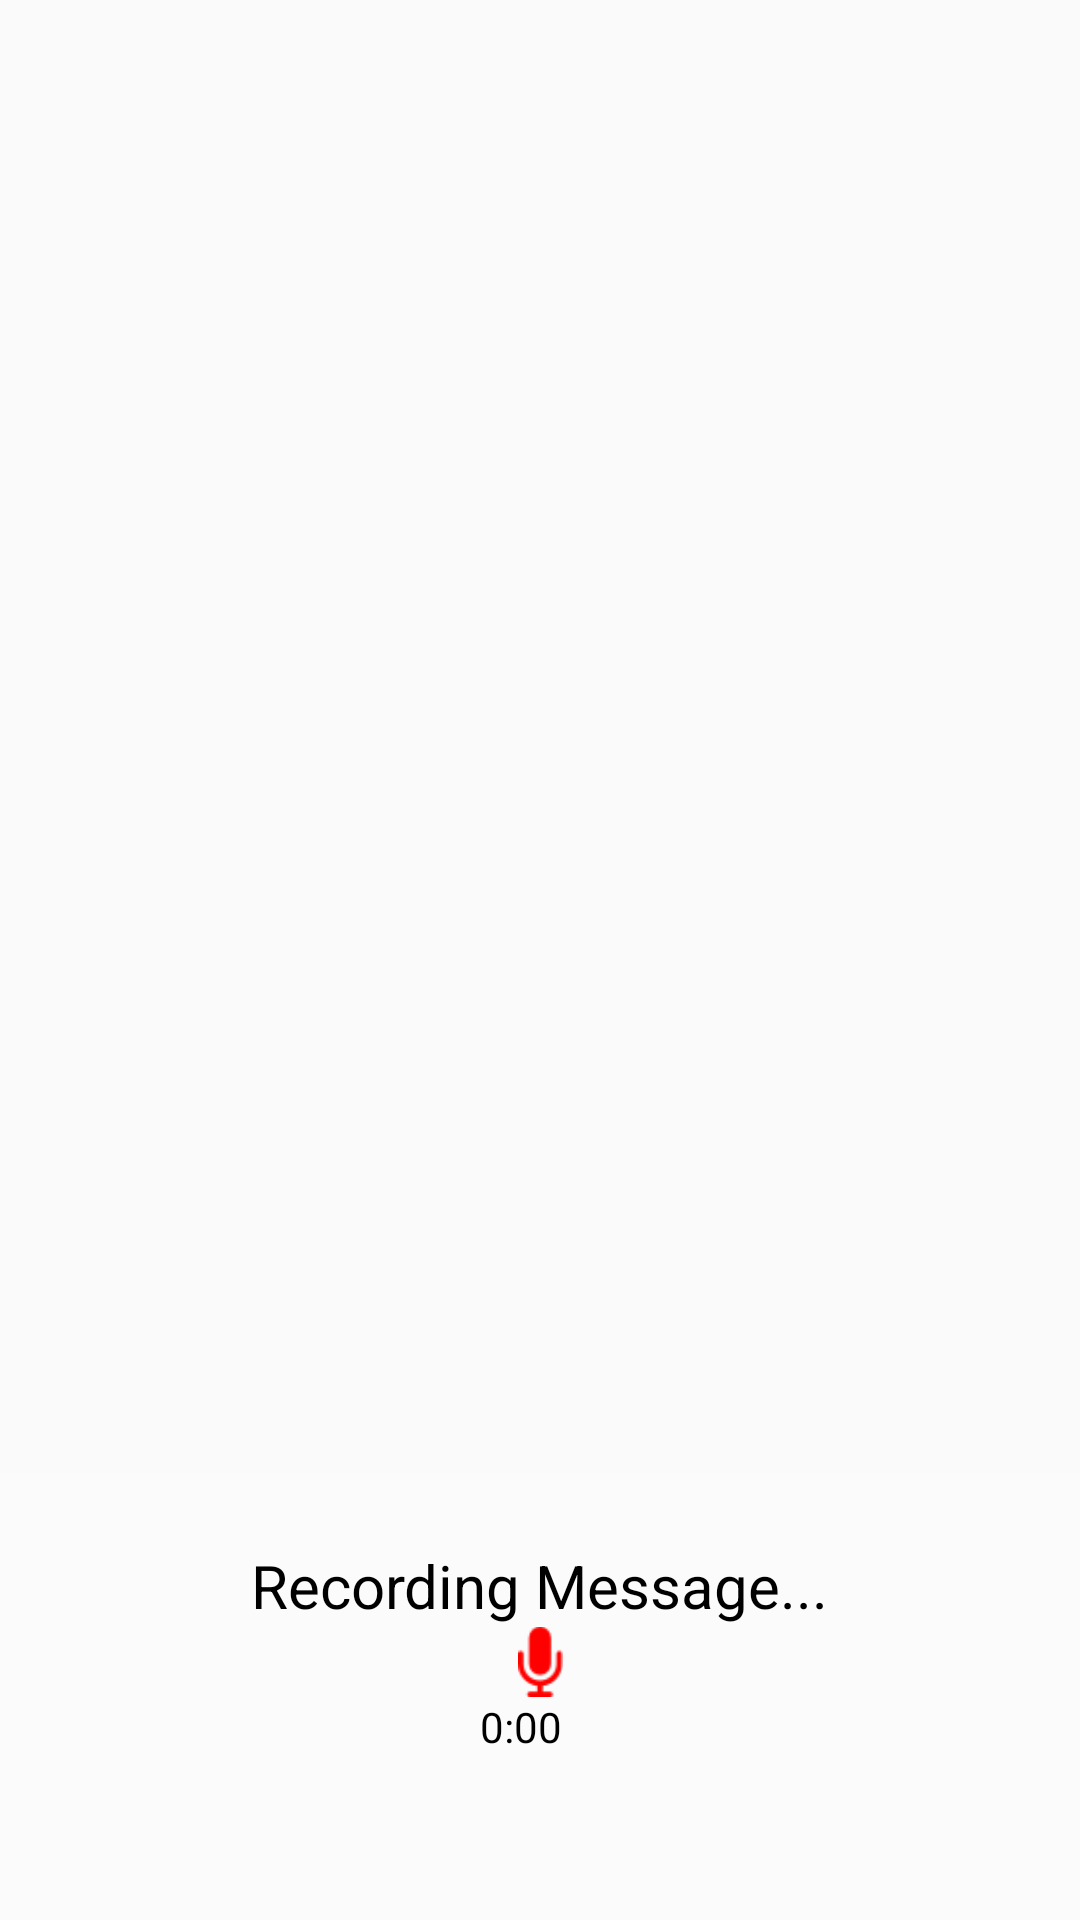

Icons on this 1080*1920 Android screen, each with the point to tap as (x=x, y=y):
dictation glyph: (x=540, y=1662)
